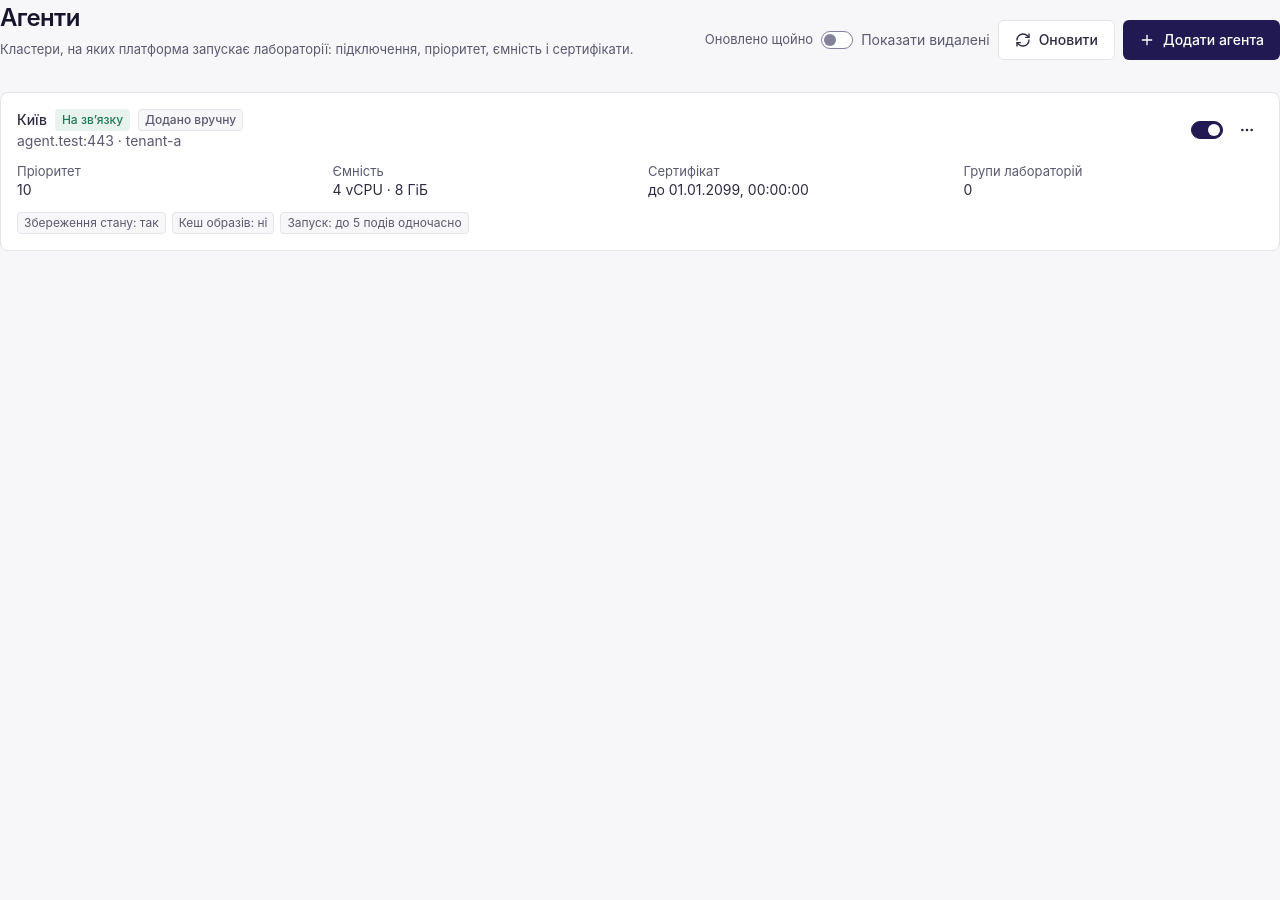
agents page › disables visible Save for equivalent agent values and preserves an edit made while saving
Check: the list item with test id "agent-a1" is shown, box x1=1 y1=92 x2=1279 y2=250
Press the mouse on the button named "Дії з агентом «Київ»": (1247, 130) x1=1231 y1=114 x2=1263 y2=146
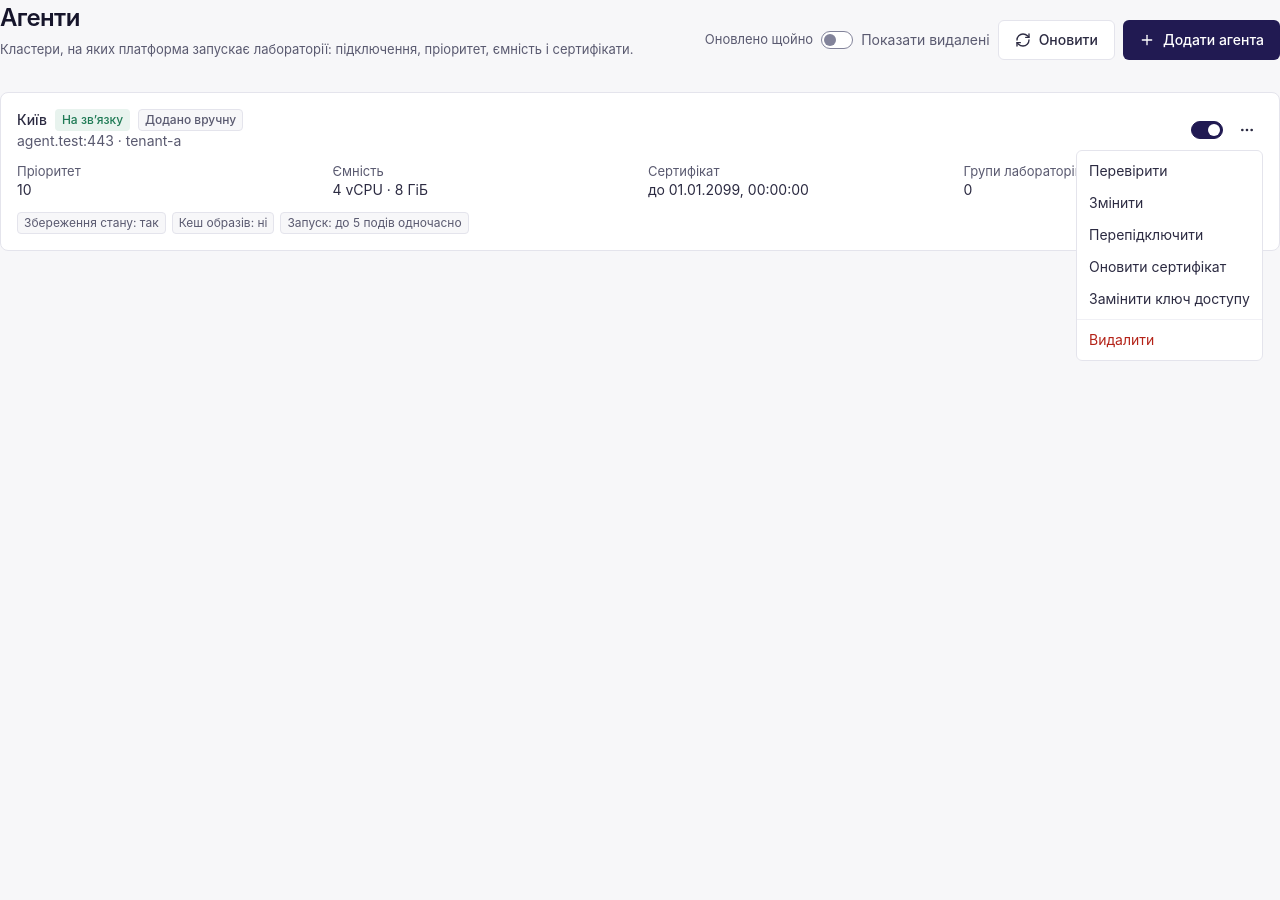
Click the menu item "Змінити": (1116, 202) x1=1089 y1=194 x2=1143 y2=211
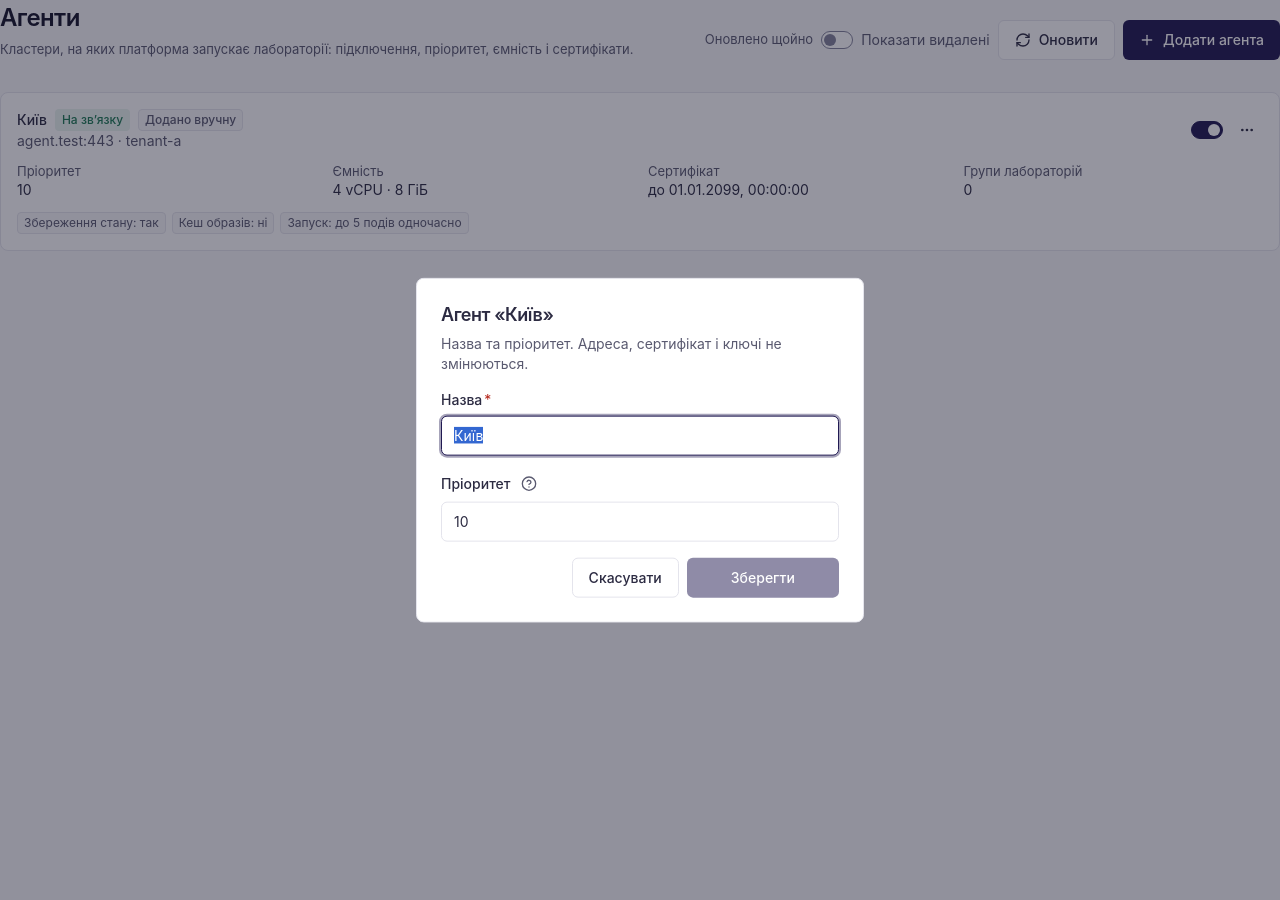
Check: the button "Зберегти" is disabled, box x1=687 y1=557 x2=839 y2=597
Submit the form labelled "пріоритет", box x1=441 y1=303 x2=839 y2=597
Check: the dialog is shown, box x1=416 y1=278 x2=864 y2=622
Replace the text in the field labelled "Пріоритет" with "010": (640, 521) x1=441 y1=501 x2=839 y2=541
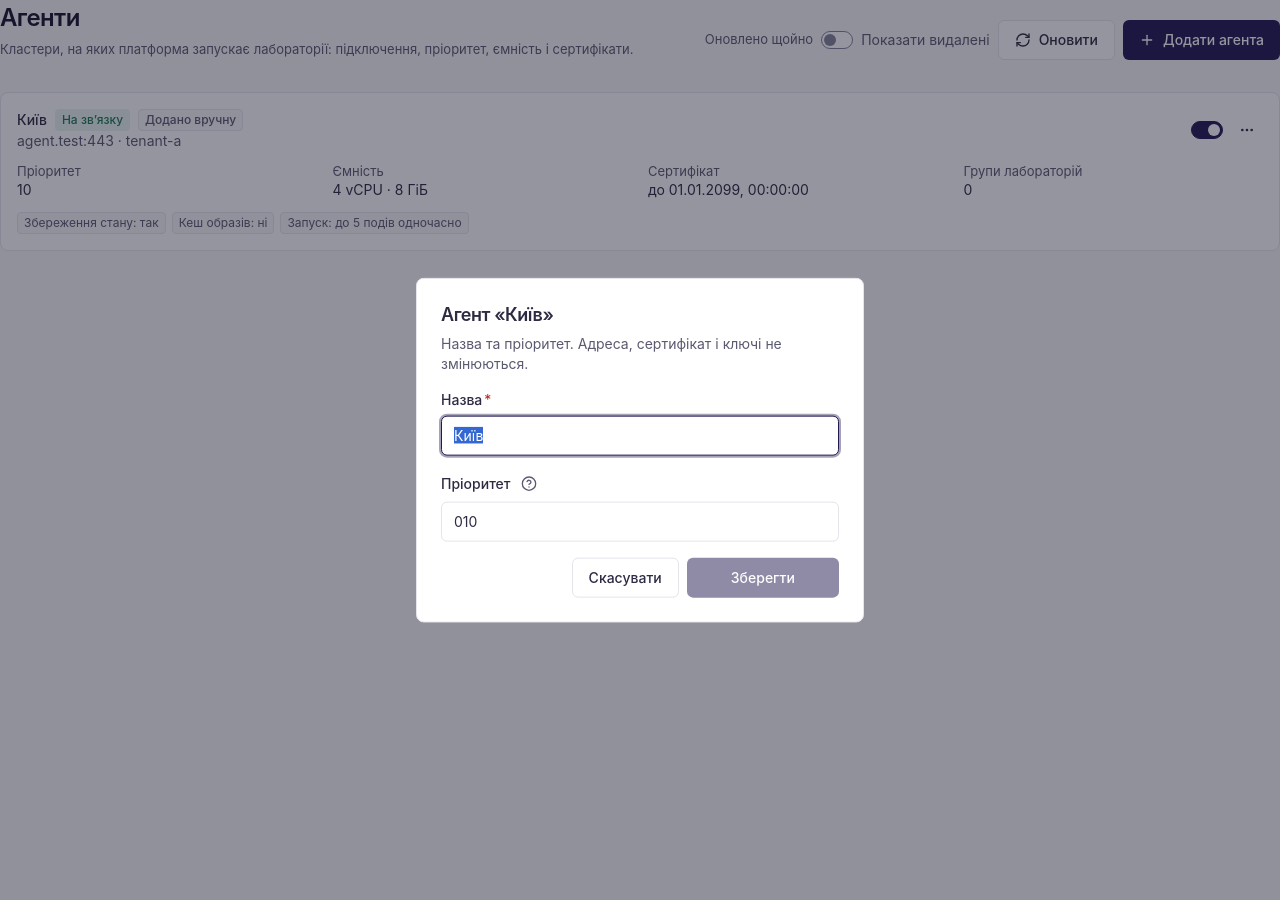
Check: the button "Зберегти" is disabled, box x1=687 y1=557 x2=839 y2=597
Replace the text in the field labelled "Пріоритет" with "5": (640, 521) x1=441 y1=501 x2=839 y2=541
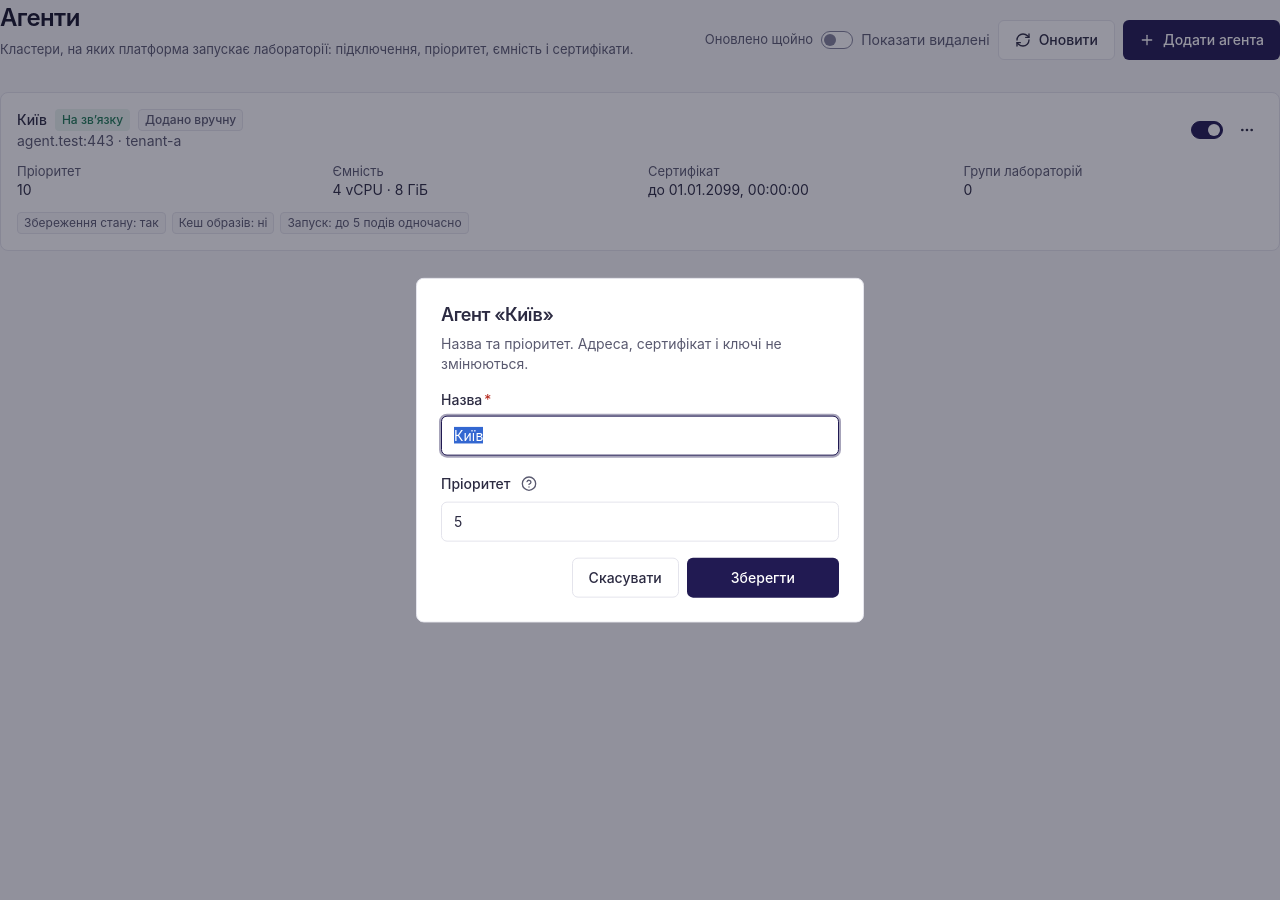
Click the button "Зберегти": (763, 577) x1=687 y1=557 x2=839 y2=597
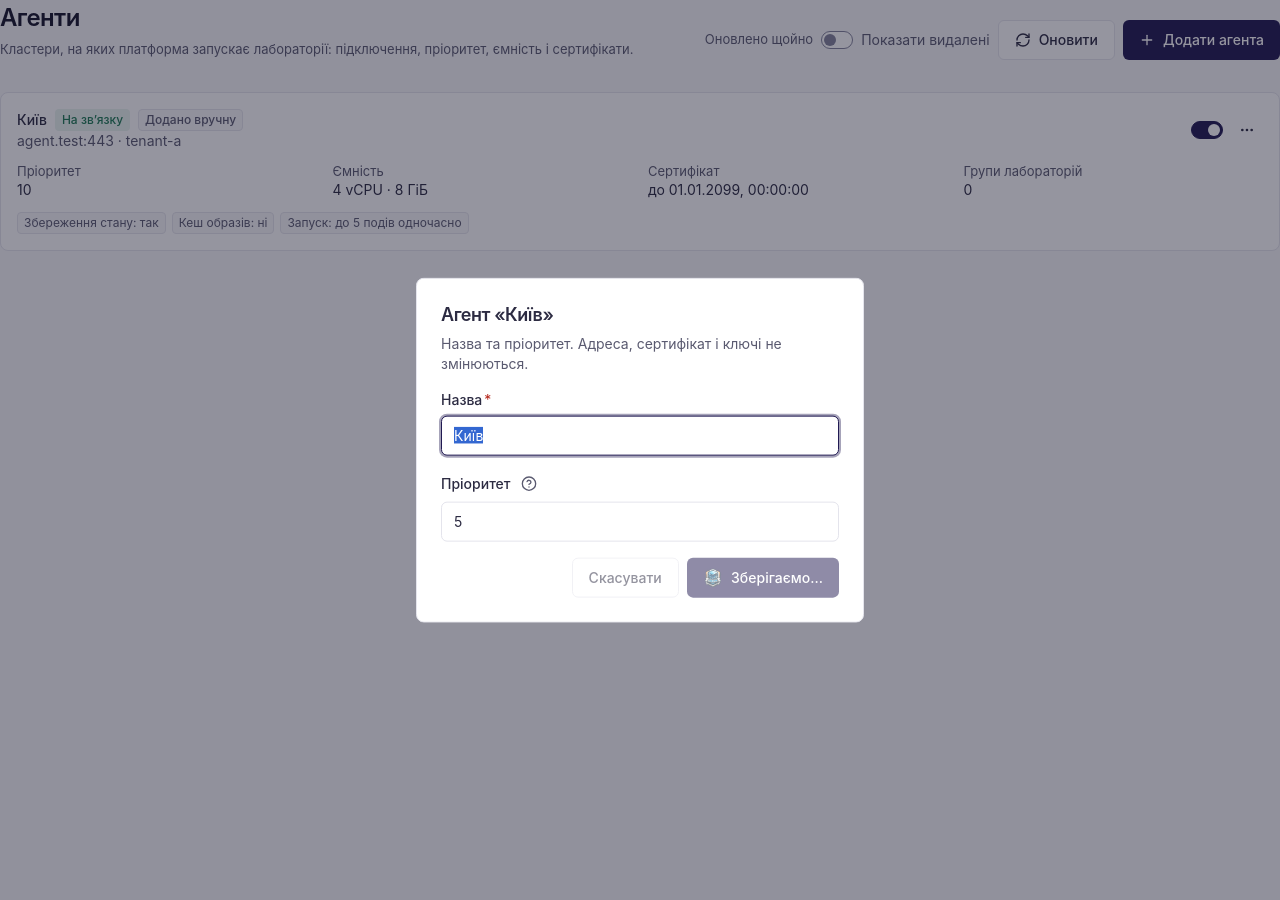
Replace the text in the field labelled "Пріоритет" with "6": (640, 521) x1=441 y1=501 x2=839 y2=541
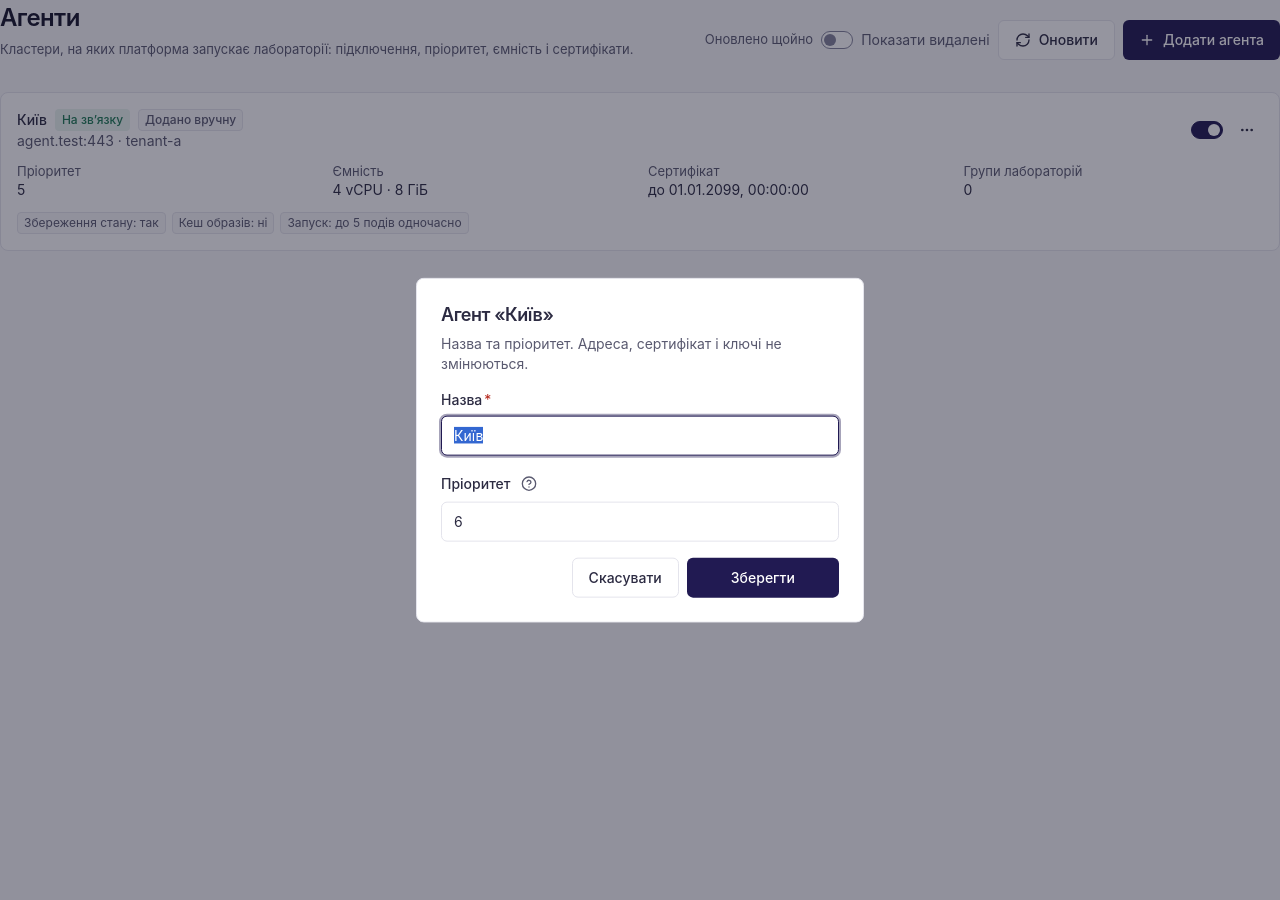
Check: the button "Зберегти" is enabled, box x1=687 y1=557 x2=839 y2=597
